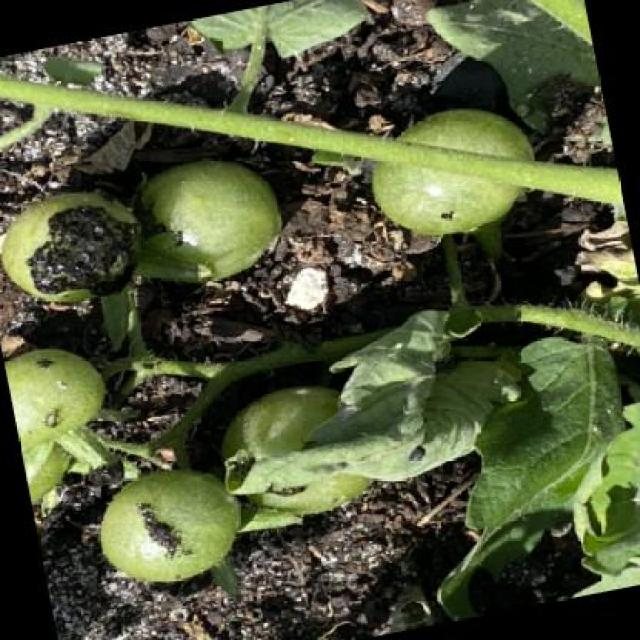unripe tomato: (199, 367, 396, 533), (362, 93, 550, 252), (120, 141, 292, 294), (84, 450, 256, 596)
